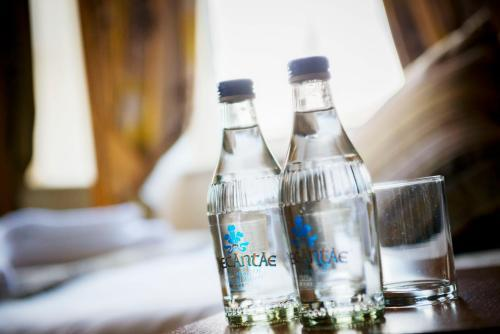bottle: (275, 50, 397, 326), (196, 72, 314, 333)
